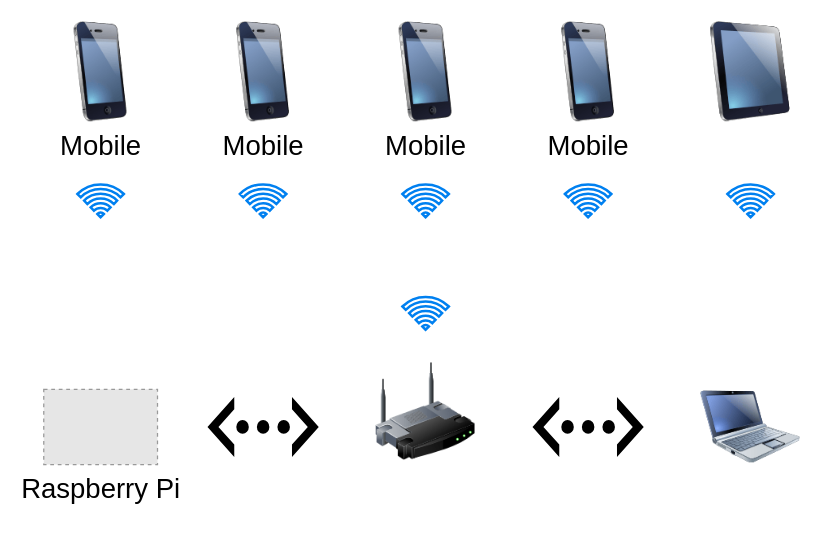
Image size: 823x539. Some labels were removed from this diagram. Grey dashed boxes stand in for pictures. The shapes that lost their labels are listed below. From the top down, each one's centre as x and y in pixels, then its label:
point (750, 71): Tablet
point (750, 426): Laptop
